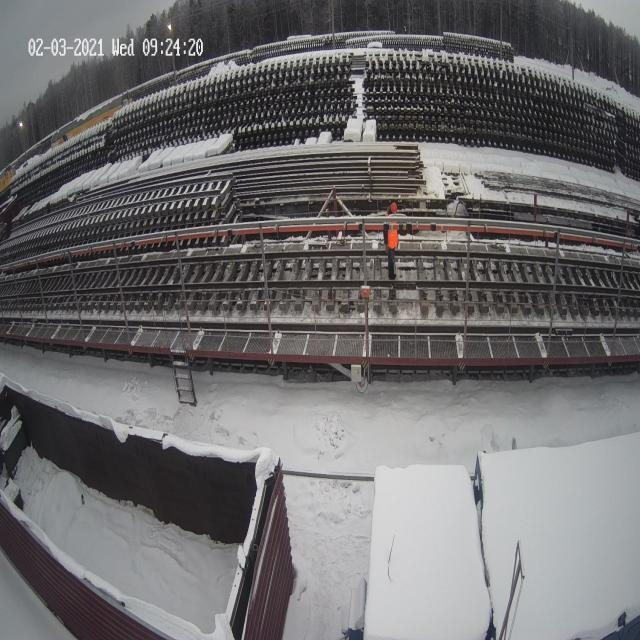Helmet: (390, 201, 397, 213)
Person: (383, 202, 399, 279)
